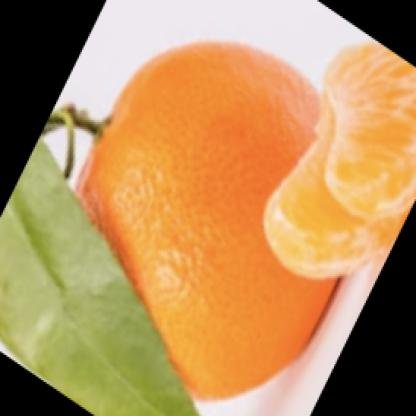fresh: (39, 37, 416, 415)
